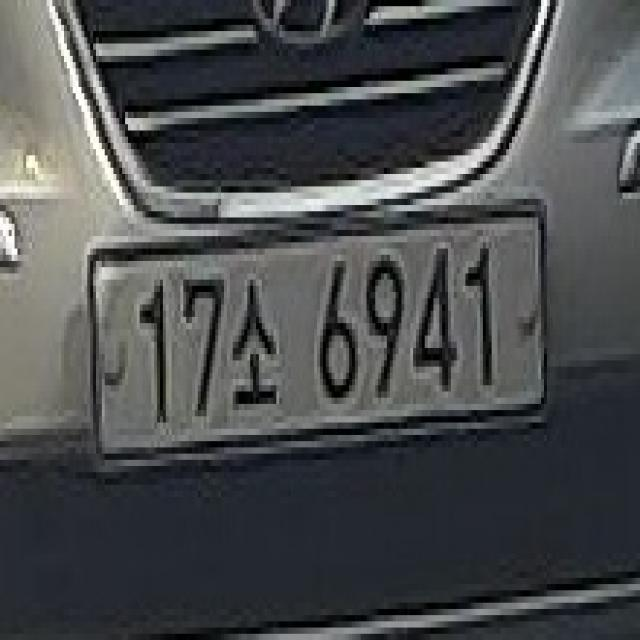1: (460, 236, 500, 398), (134, 268, 169, 448)
4: (413, 236, 460, 404)
6: (317, 255, 361, 416)
7: (174, 267, 230, 441)
9: (361, 249, 410, 410)
license_plate: (76, 193, 558, 497)
so: (227, 261, 282, 435)
